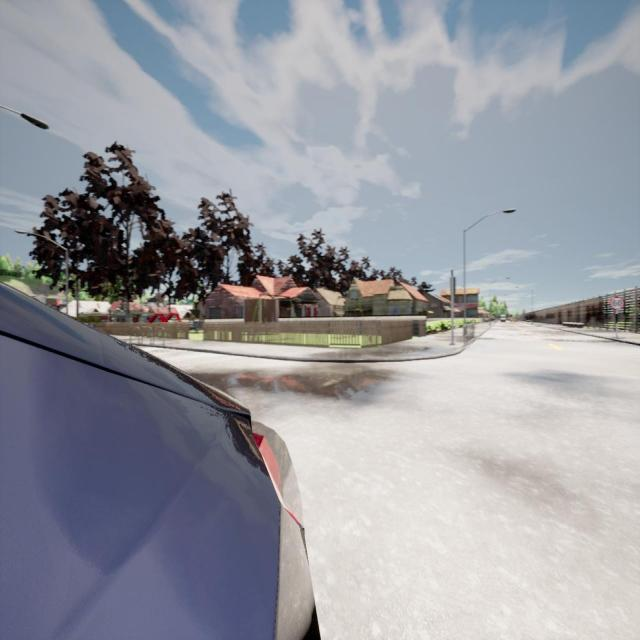Traffic_Signs: (609, 296, 626, 309)
Vehicle: (0, 283, 318, 638), (499, 314, 507, 322)
traffic_light: (449, 274, 456, 296)
